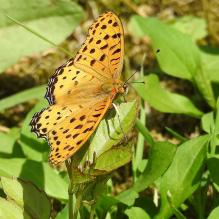Argyreus hyperbius: (28, 8, 159, 164)
butterfly: (29, 10, 160, 166)
